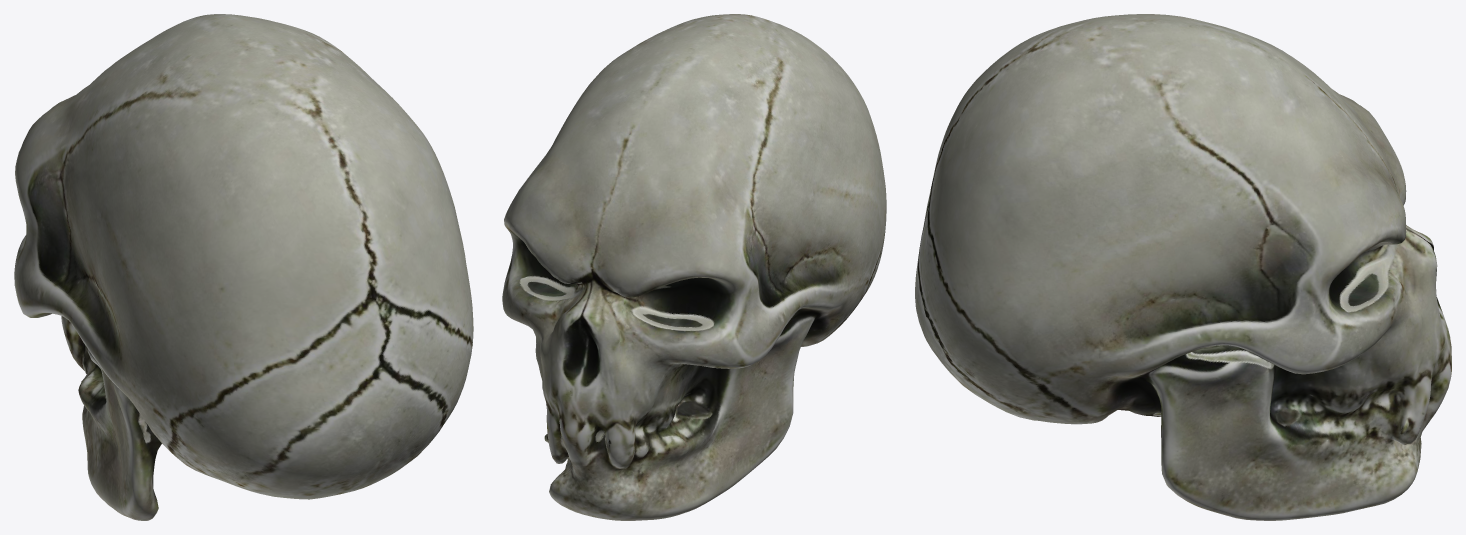
Rendered from 16fcef0da702_orc_skull_min.fbx.
3 renders of one model, left to right at view 1: azimuth 30°, elevation 25°; view 2: azimuth 150°, elevation 25°; view 3: azimuth 270°, elevation 25°, orthographic. The views are drawn at different scales.
Parts seen in each view (by area): view 1: mesh; view 2: mesh; view 3: mesh.
Boxes of the visible parts, <box> form: mesh: <box>14,14,473,520</box>; mesh: <box>502,14,886,520</box>; mesh: <box>915,14,1451,520</box>.
Size of the model in its own units: 64.11 by 95.81 by 99.96.
